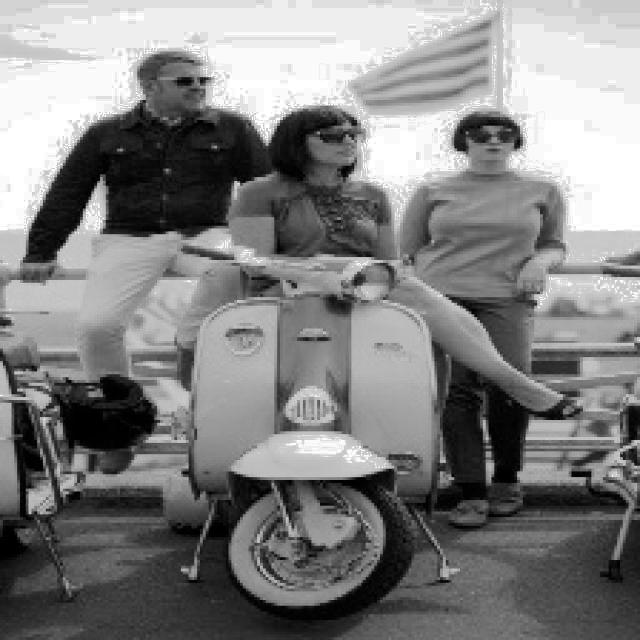Bike: (185, 259, 443, 625)
